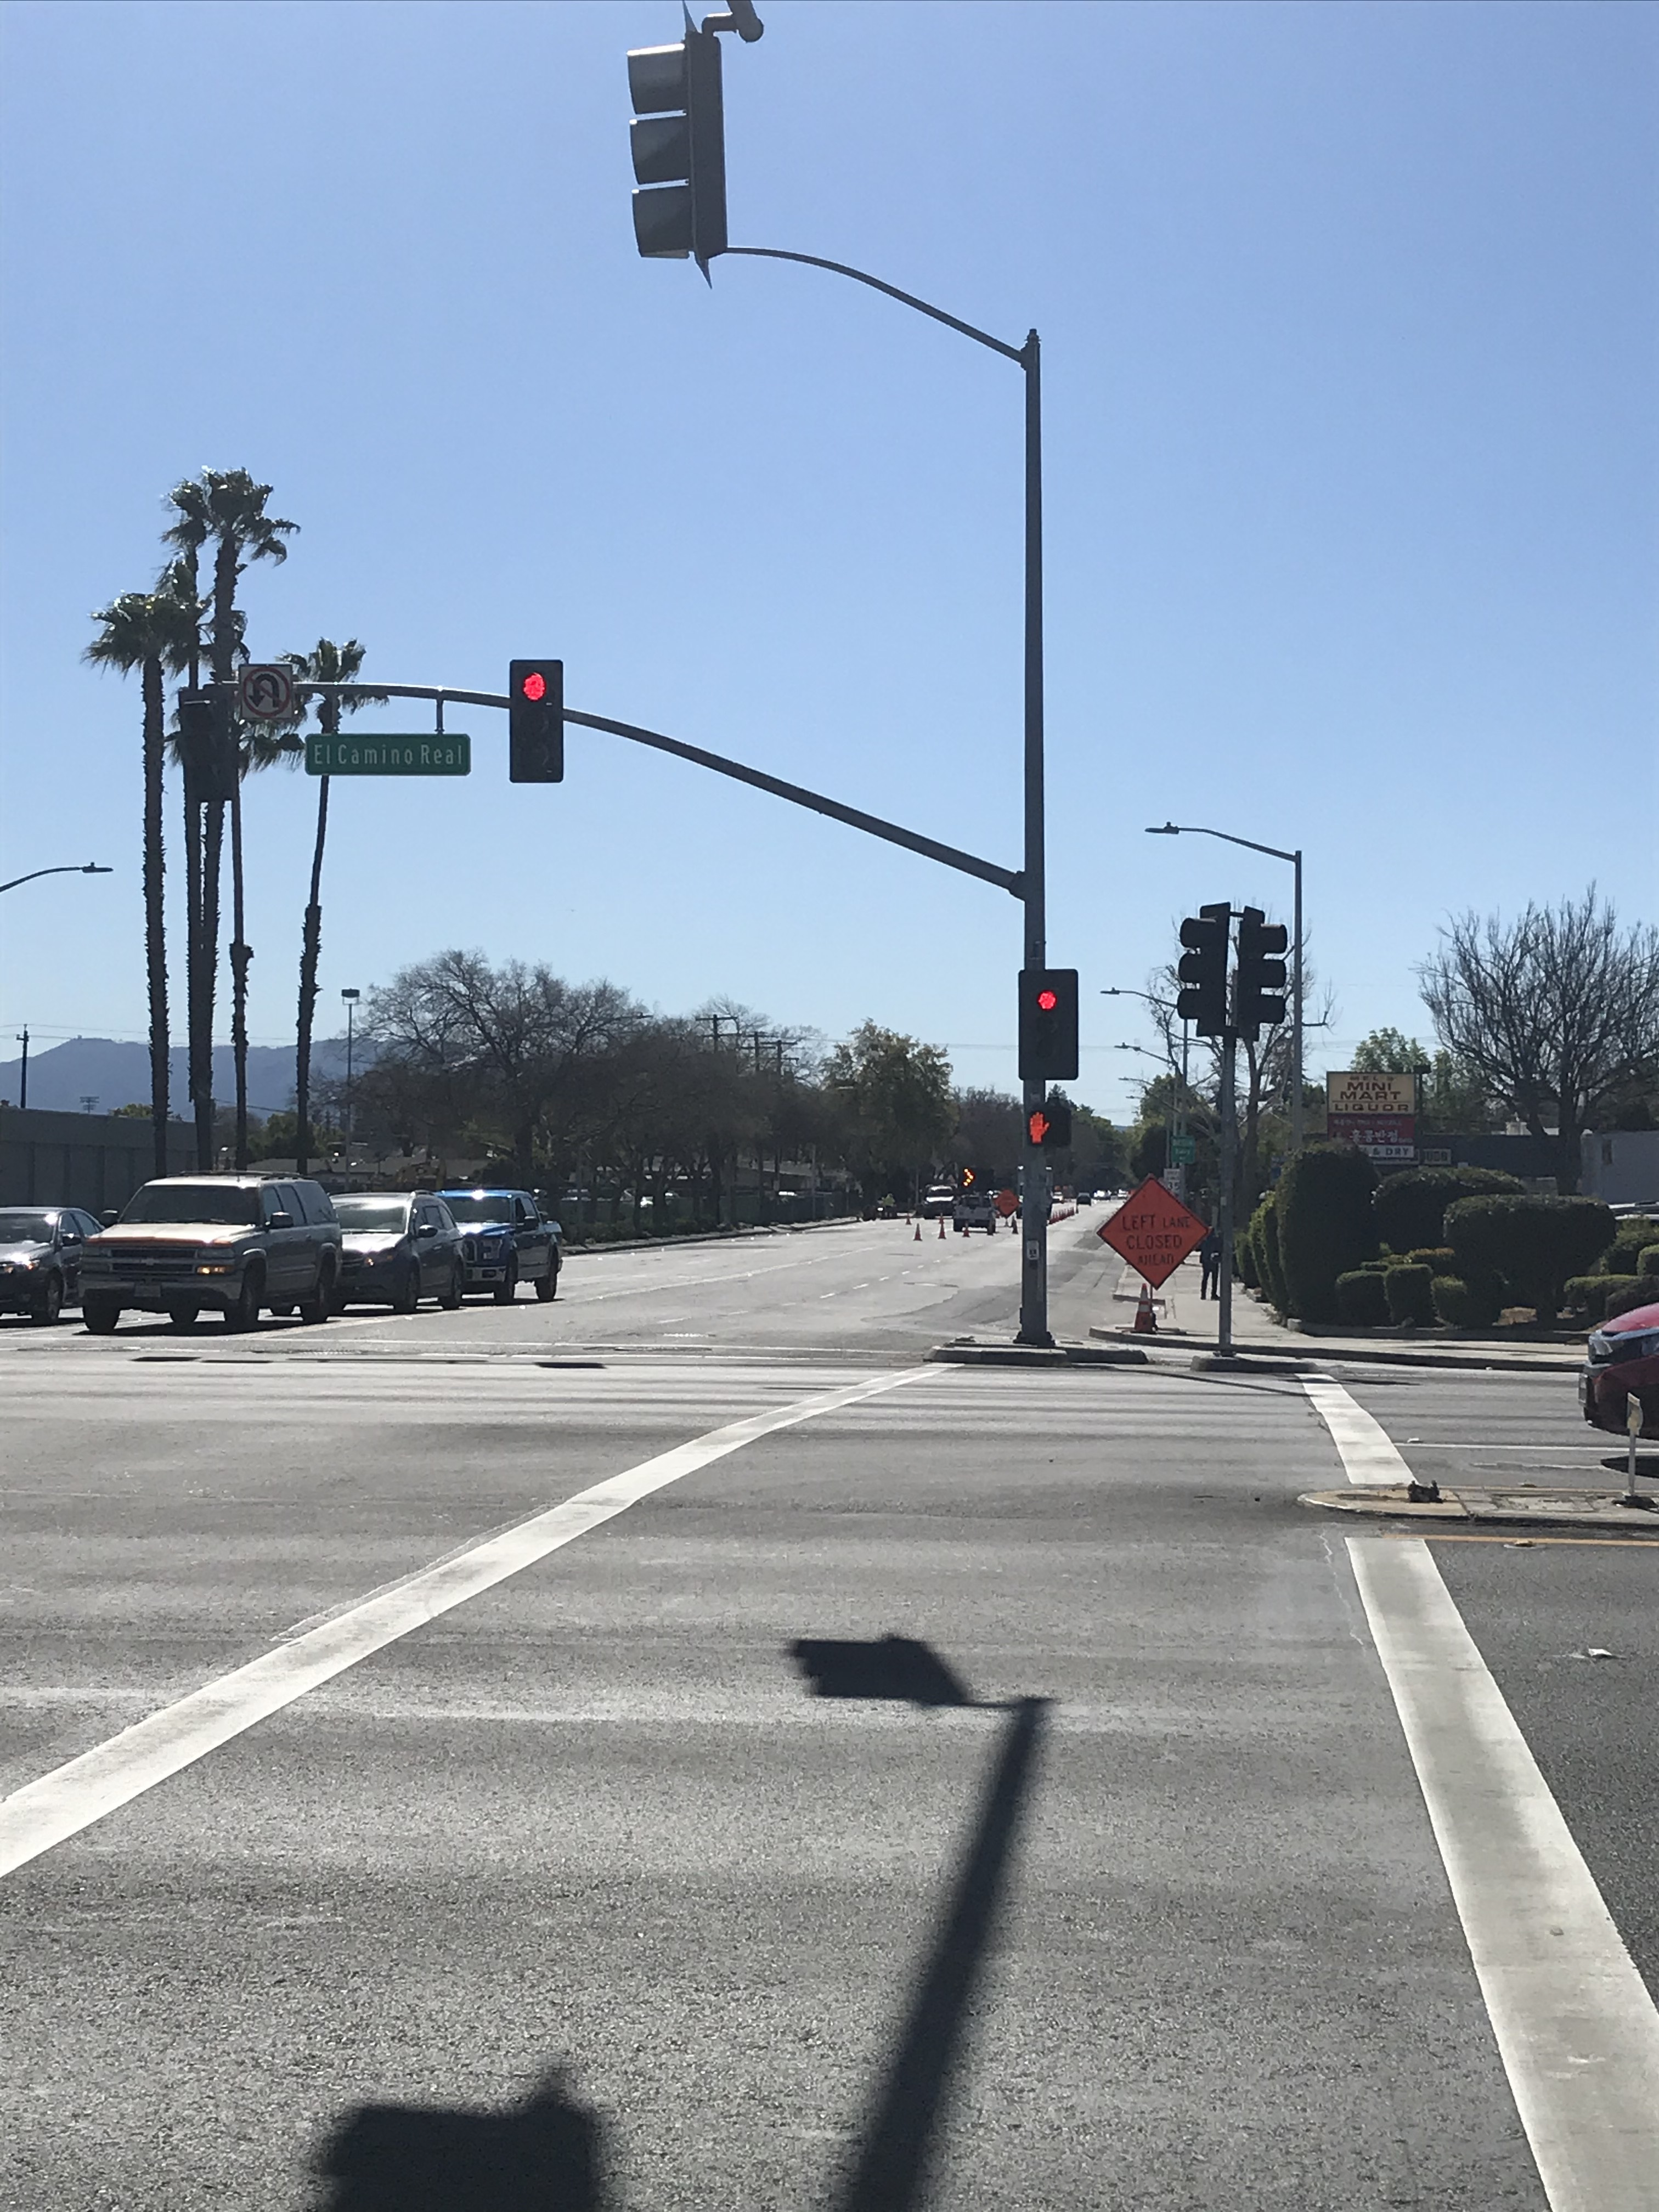red_light: (509, 658, 558, 775), (1023, 975, 1075, 1075)
